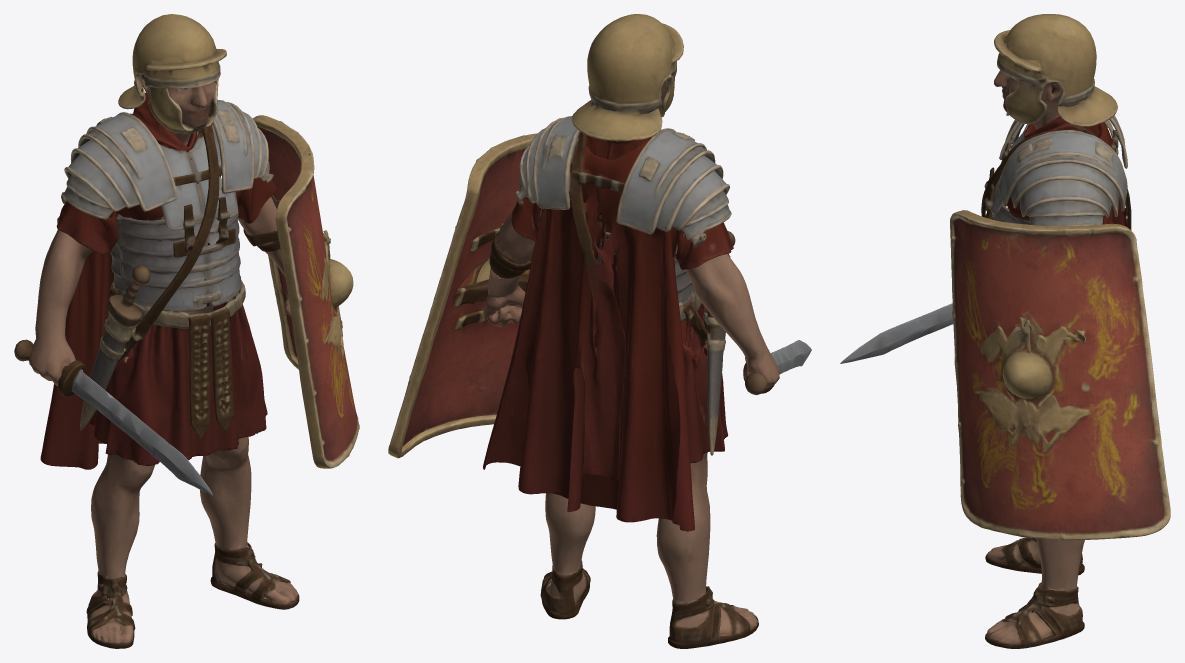
The model's file is light_pawn.glb.
3 renders of one model, left to right at view 1: azimuth 30°, elevation 25°; view 2: azimuth 150°, elevation 25°; view 3: azimuth 270°, elevation 25°, orthographic. The views are drawn at different scales.
Parts seen in each view (by area): view 1: geom0; view 2: geom0; view 3: geom0.
Part boxes in pixels (<box>): geom0: <box>14,14,359,648</box>; geom0: <box>388,14,811,648</box>; geom0: <box>840,14,1170,648</box>.
Bounding box in the file's own units: 0.5966 × 1 × 0.514.
1 material, 1 textured.
